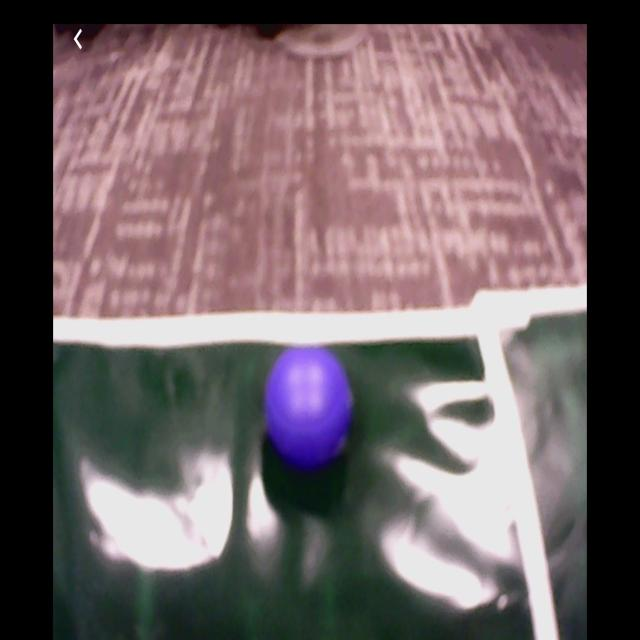ball: (266, 345, 351, 466)
